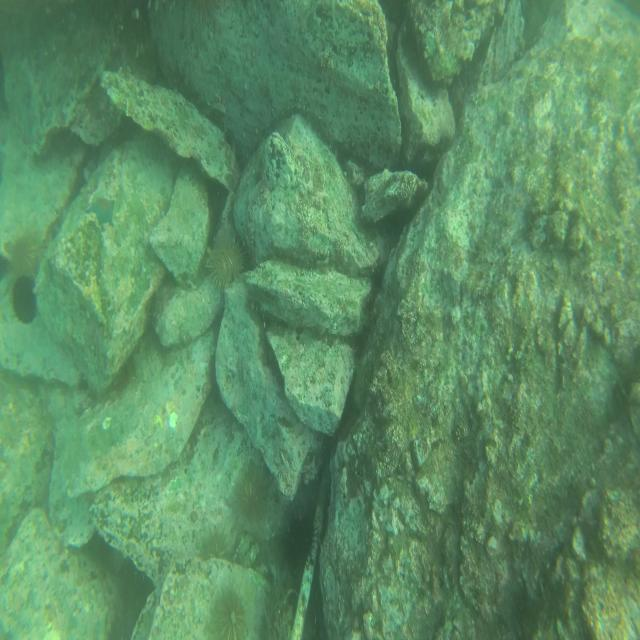echinus: (235, 461, 275, 528), (202, 237, 244, 288), (214, 590, 252, 639), (12, 277, 38, 324), (200, 528, 234, 560)
starfish: (87, 196, 119, 225)
